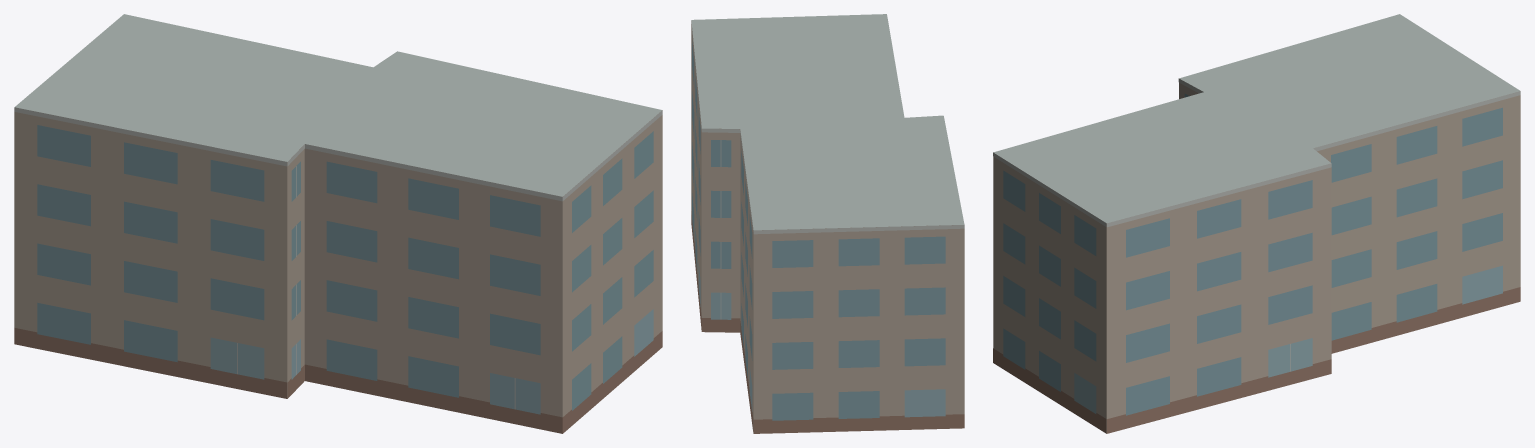
Rendered from survey-upis-32761557.glb.
3 renders of one model, left to right at view 1: azimuth 30°, elevation 25°; view 2: azimuth 150°, elevation 25°; view 3: azimuth 270°, elevation 25°, orthographic. The views are drawn at different scales.
Parts seen in each view (by area): view 1: survey-upis-32761557.tmp; view 2: survey-upis-32761557.tmp; view 3: survey-upis-32761557.tmp.
Part boxes in pixels (<box>): survey-upis-32761557.tmp: <box>14,14,662,433</box>; survey-upis-32761557.tmp: <box>691,14,964,433</box>; survey-upis-32761557.tmp: <box>993,14,1520,433</box>.
Bounding box in the file's own units: 27.09 × 12.7 × 28.85.
